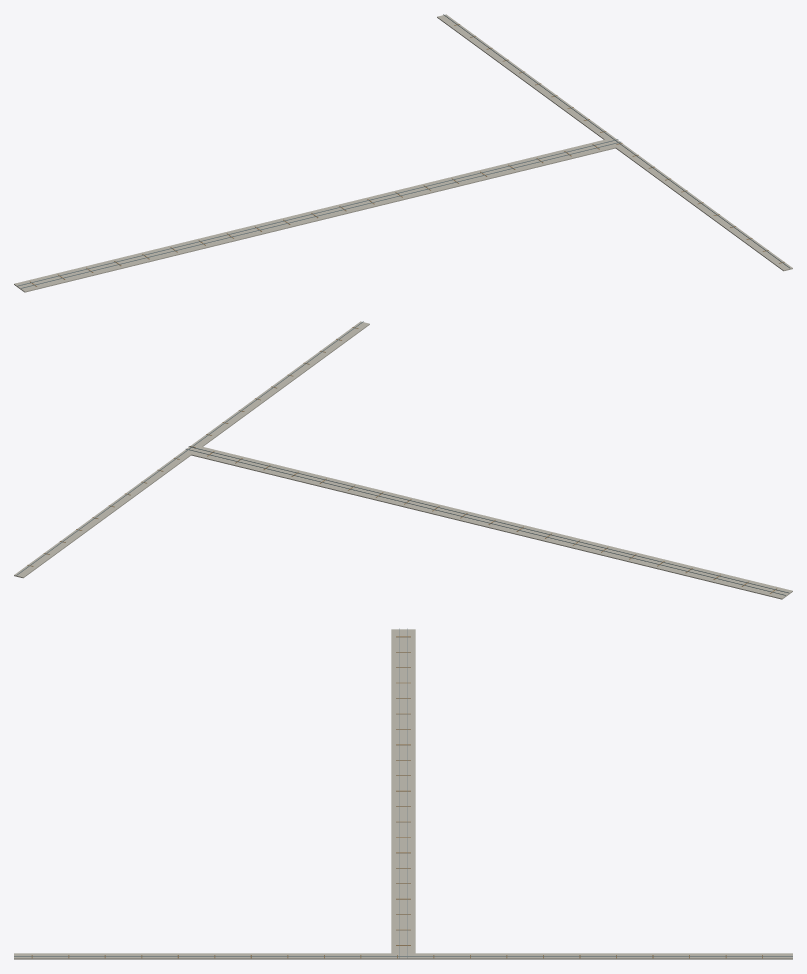
The model's file is valley-7-2.glb.
3 views of the same model, one above another, from view 1: azimuth 30°, elevation 25°; view 2: azimuth 150°, elevation 25°; view 3: azimuth 270°, elevation 25° (orthographic). The views are drawn at different scales.
Parts seen in each view (by area): view 1: valley-7-2; view 2: valley-7-2; view 3: valley-7-2.
Boxes of the visible parts, <box> form: valley-7-2: <box>14,14,792,292</box>; valley-7-2: <box>14,321,792,599</box>; valley-7-2: <box>14,628,792,959</box>.
Bounding box in the file's own units: 256 × 0.7 × 256.
